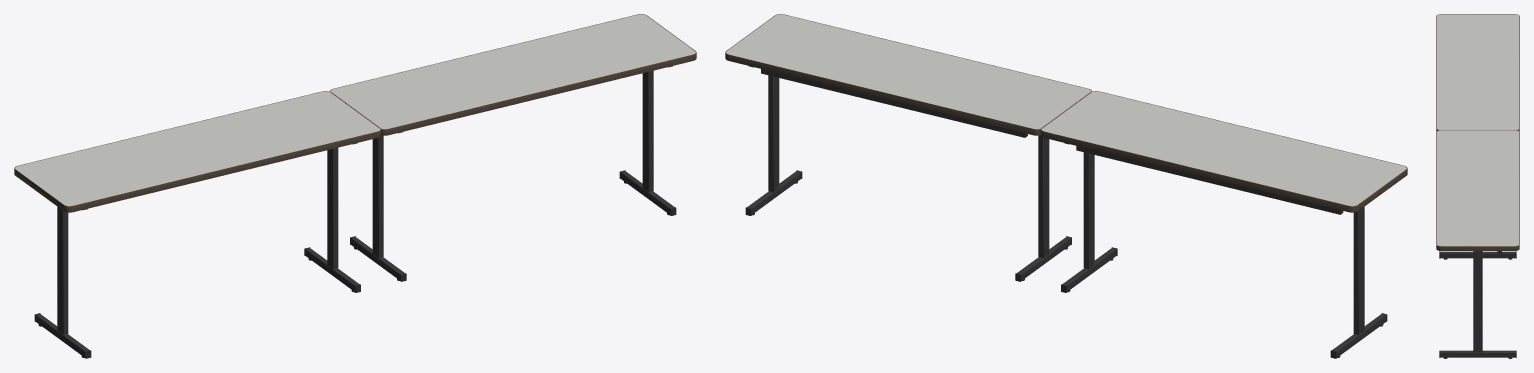
The model's file is Kit_TrainingTable_Row2_Dove.fbx.
3 renders of one model, left to right at view 1: azimuth 30°, elevation 25°; view 2: azimuth 150°, elevation 25°; view 3: azimuth 270°, elevation 25°, orthographic. The views are drawn at different scales.
Parts seen in each view (by area): view 1: Kit_TrainingTable_Row2_LOD0; view 2: Kit_TrainingTable_Row2_LOD0; view 3: Kit_TrainingTable_Row2_LOD0.
Part boxes in pixels (x1=…): Kit_TrainingTable_Row2_LOD0: x1=14, y1=14, x2=696, y2=358; Kit_TrainingTable_Row2_LOD0: x1=725, y1=14, x2=1407, y2=358; Kit_TrainingTable_Row2_LOD0: x1=1436, y1=14, x2=1519, y2=358.
Size of what is drawn, in the model's own units: 3.05 by 0.737 by 0.463.
